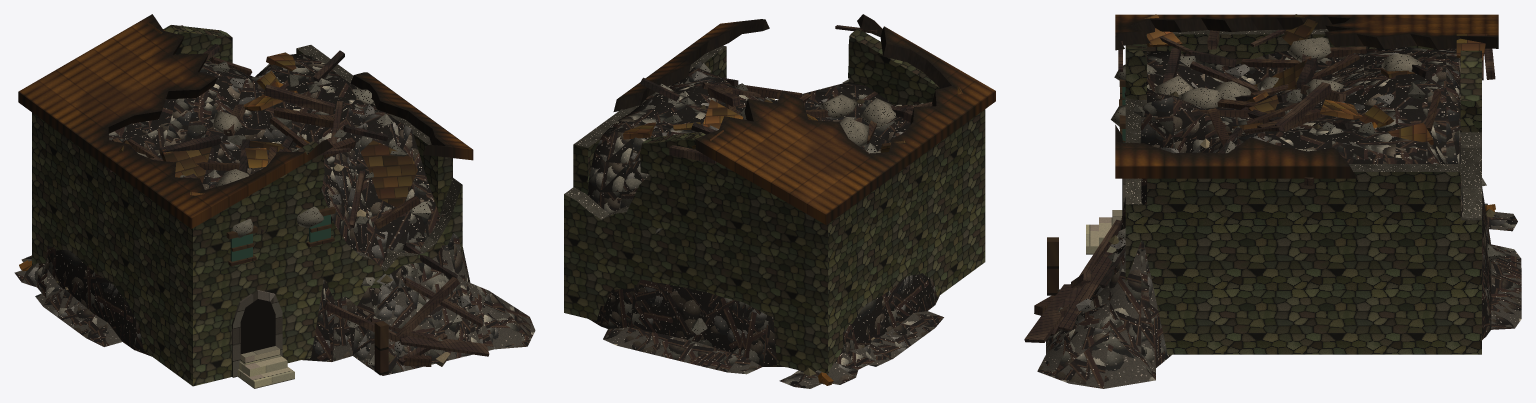
Rendered from CreHouse07a.glb.
3 renders of one model, left to right at view 1: azimuth 30°, elevation 25°; view 2: azimuth 150°, elevation 25°; view 3: azimuth 270°, elevation 25°, orthographic. The views are drawn at different scales.
Parts seen in each view (by area): view 1: CreHouse07a_rm; view 2: CreHouse07a_rm; view 3: CreHouse07a_rm.
Part boxes in pixels (left/top/right/bottom): CreHouse07a_rm: left=14, top=14, right=535, bottom=388; CreHouse07a_rm: left=564, top=14, right=995, bottom=388; CreHouse07a_rm: left=1024, top=14, right=1521, bottom=388.
Size of the model in its own units: 7.64 by 4.66 by 8.38.
Materials: 31 (29 with a texture image).
